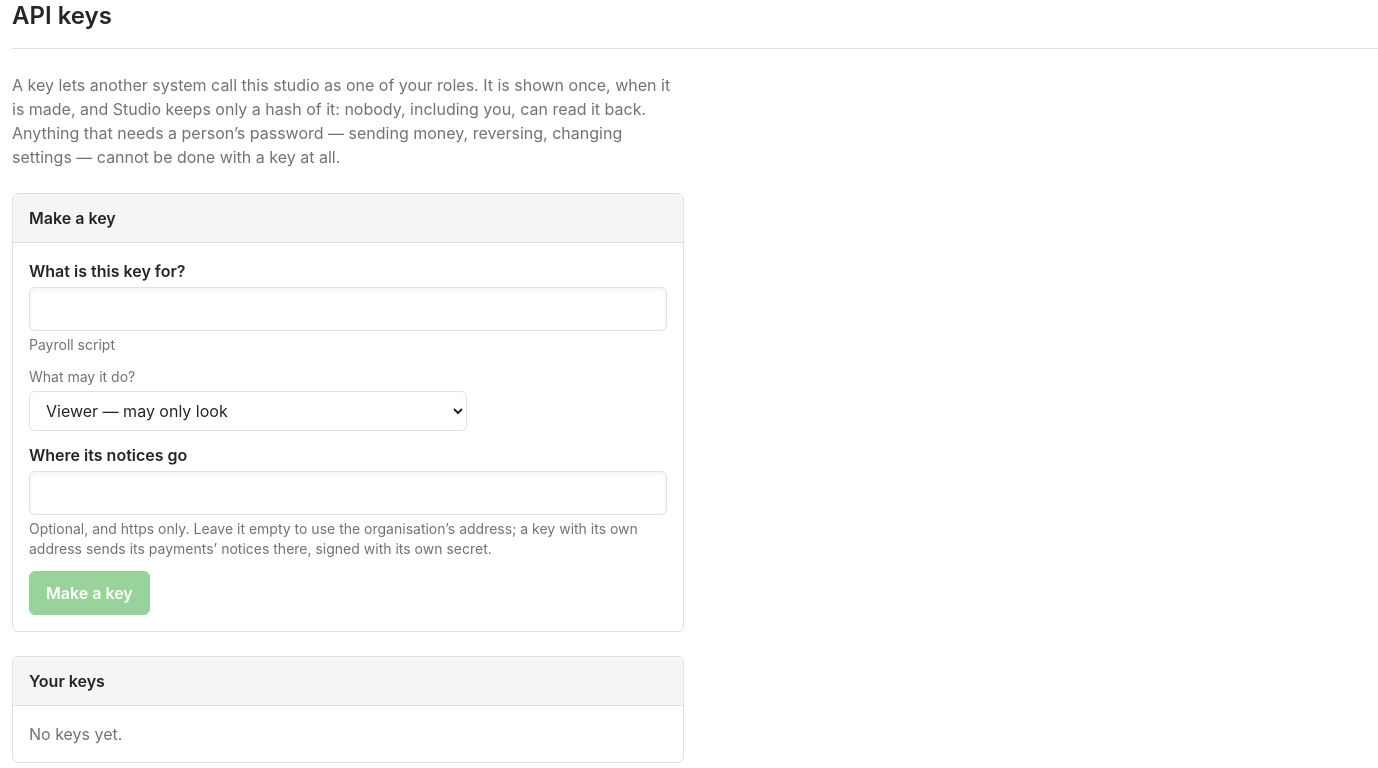
it: key webhook addresses (part five) › names the address a key will use in the same breath, and shows both secrets once
The image size is (1378, 768).
Check: the text "No keys yet." is shown, box [29,724,122,744]
Type "Reporting" into the field labelled "What is this key for?" at {"x": 348, "y": 309}, box [29,287,667,331]
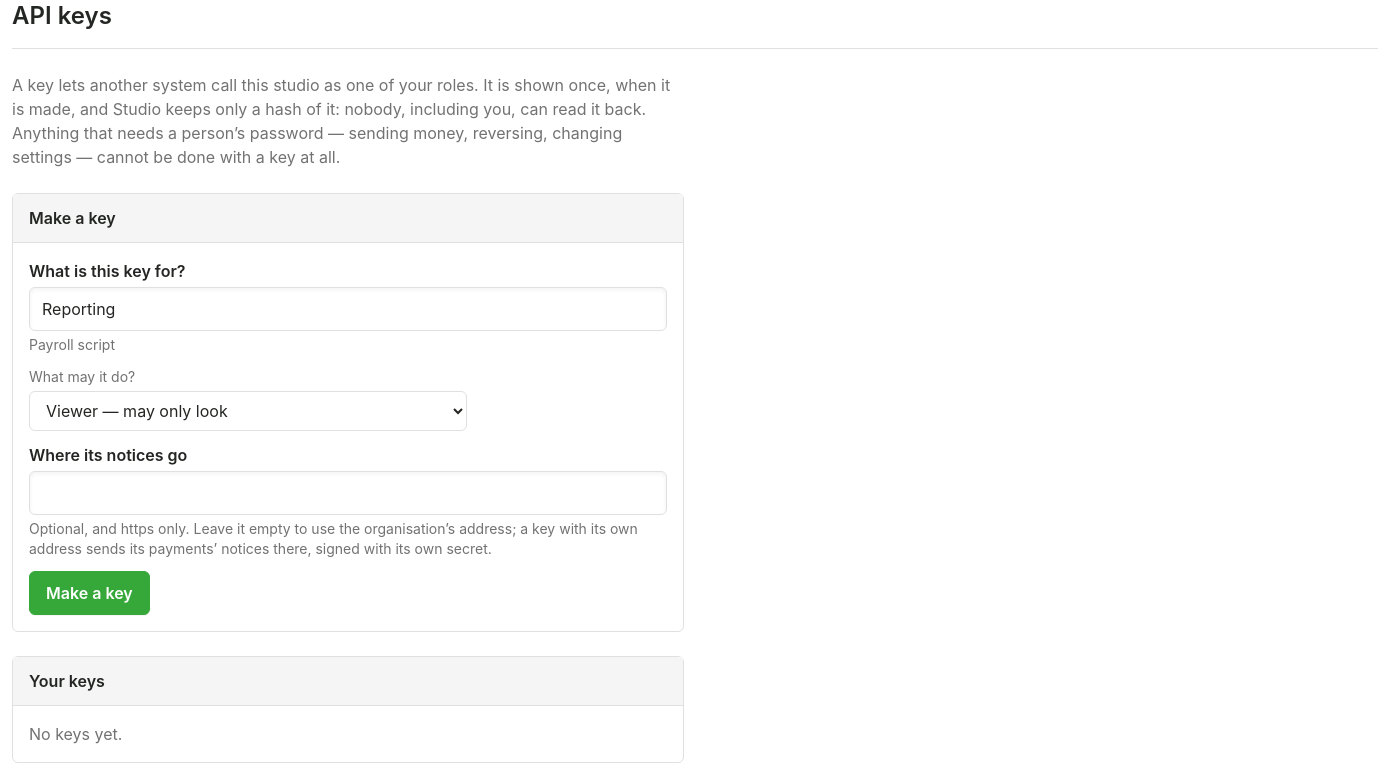
Type "https://key.test/hooks" into the field labelled "Where its notices go" at {"x": 348, "y": 493}, box [29,471,667,515]
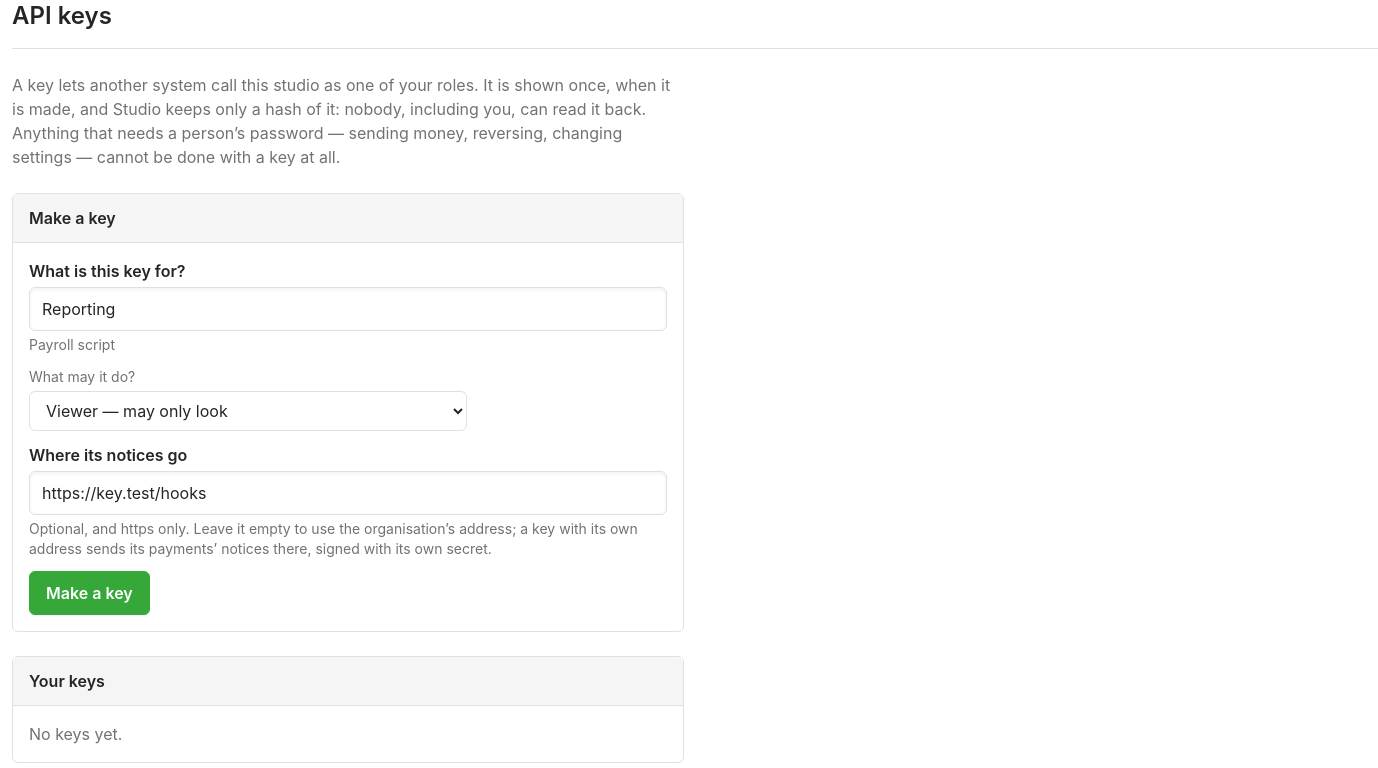
Click the button "Make a key" at {"x": 89, "y": 593}, box [29,571,150,615]
(page scrolled)
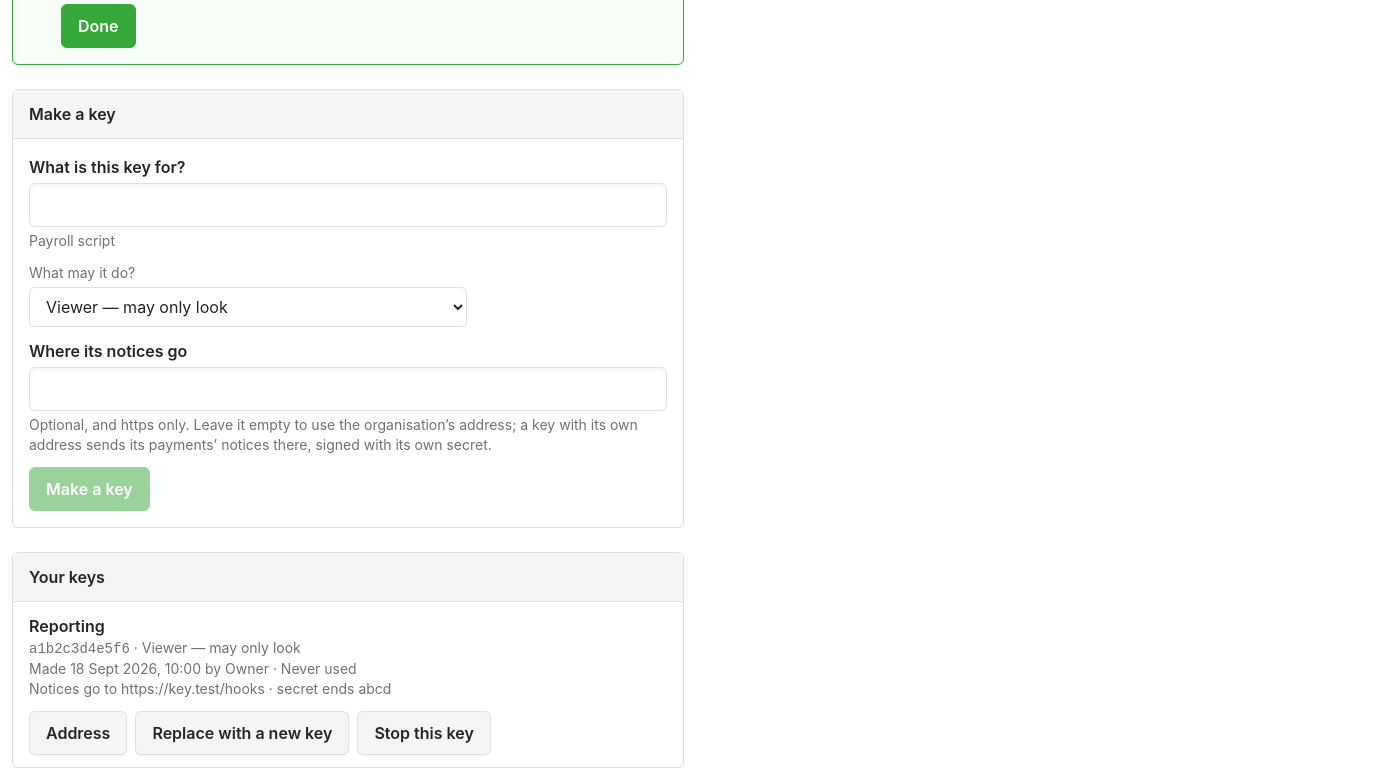
Check: the text with test id "key-address-k2" shows "https://key.test/hooks", box [29,680,391,697]
